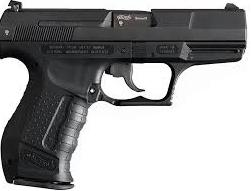gun: (1, 1, 251, 191)
